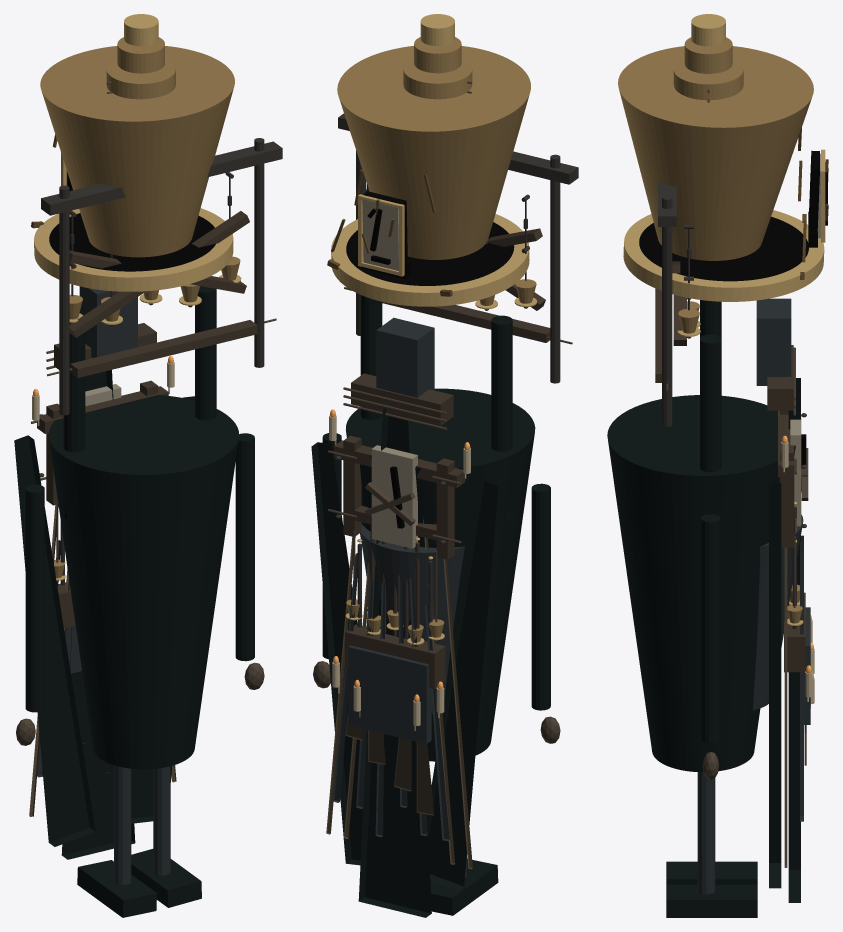
The model's file is bell_saint_v6d_detail_pass.glb.
The picture shows the model from 3 angles, left to right: view 1: azimuth 30°, elevation 25°; view 2: azimuth 150°, elevation 25°; view 3: azimuth 270°, elevation 25°; orthographic projection.
Visible parts, largest first — view 1: BS6D_RobeMainCentered, BS6D_BellHead_Main, BS6D_LeftOuterRobeFall, BS6D_BellHeadOuterLip, BS6D_LeftForeSleeve, BS6D_RightForeSleeve, BS6D_FrontCentralBladePanel, BS6D_BackLowCrossbarCentered, BS6D_BellHeadInnerLipShadow, BS6D_BackTopCrossbarCentered, BS6D_LeftFoot, BS6D_RightUpperSleeve (+18 smaller); view 2: BS6D_BellHead_Main, BS6D_RobeMainCentered, BS6D_LeftOuterRobeFall, BS6D_FrontCentralBladePanel, BS6D_RightOuterRobeFall, BS6D_LowerAltarFrontPlate, BS6D_BellHeadOuterLip, BS6D_RobeInnerShadowCentered, BS6D_LeftForeSleeve, BS6D_CentralNeckBlock, BS6D_BellHeadInnerLipShadow, BS6D_CenterBoundPlate (+28 smaller); view 3: BS6D_RobeMainCentered, BS6D_BellHead_Main, BS6D_BellHeadOuterLip, BS6D_RightOuterRobeFall, BS6D_RightForeSleeve, BS6D_BellHeadInnerLipShadow, BS6D_FrontCentralBladePanel, BS6D_RightUpperSleeve, BS6D_RightFoot, BS6D_CentralNeckBlock, BS6D_RobeInnerShadowCentered, BS6D_BackRightPost (+18 smaller).
Boxes of the visible parts, <box> form: BS6D_RobeMainCentered: <box>48,395,239,769</box>; BS6D_BellHead_Main: <box>40,46,234,257</box>; BS6D_LeftOuterRobeFall: <box>14,435,95,846</box>; BS6D_BellHeadOuterLip: <box>34,208,233,291</box>; BS6D_LeftForeSleeve: <box>25,484,44,712</box>; BS6D_RightForeSleeve: <box>235,433,254,661</box>; BS6D_FrontCentralBladePanel: <box>61,370,135,859</box>; BS6D_BackLowCrossbarCentered: <box>70,320,257,377</box>; BS6D_BellHeadInnerLipShadow: <box>49,213,215,271</box>; BS6D_BackTopCrossbarCentered: <box>41,141,282,215</box>; BS6D_LeftFoot: <box>77,860,156,917</box>; BS6D_RightUpperSleeve: <box>195,286,216,420</box>; BS6D_BellHead_Main: <box>337,46,530,259</box>; BS6D_RobeMainCentered: <box>346,388,535,761</box>; BS6D_LeftOuterRobeFall: <box>427,481,498,890</box>; BS6D_FrontCentralBladePanel: <box>358,407,431,917</box>; BS6D_RightOuterRobeFall: <box>311,442,366,865</box>; BS6D_LowerAltarFrontPlate: <box>348,645,431,743</box>; BS6D_BellHeadOuterLip: <box>331,214,529,306</box>; BS6D_RobeInnerShadowCentered: <box>360,524,464,713</box>; BS6D_LeftForeSleeve: <box>531,483,550,710</box>; BS6D_CentralNeckBlock: <box>376,317,434,397</box>; BS6D_BellHeadInnerLipShadow: <box>346,222,514,285</box>; BS6D_CenterBoundPlate: <box>371,445,417,548</box>; BS6D_RobeMainCentered: <box>607,395,795,772</box>; BS6D_BellHead_Main: <box>618,46,813,260</box>; BS6D_BellHeadOuterLip: <box>623,210,824,301</box>; BS6D_RightOuterRobeFall: <box>769,483,781,888</box>; BS6D_RightForeSleeve: <box>701,514,720,743</box>; BS6D_BellHeadInnerLipShadow: <box>639,216,808,281</box>; BS6D_FrontCentralBladePanel: <box>788,378,800,902</box>; BS6D_RightUpperSleeve: <box>700,334,721,472</box>; BS6D_RightFoot: <box>666,884,757,917</box>; BS6D_CentralNeckBlock: <box>756,298,791,385</box>; BS6D_RobeInnerShadowCentered: <box>753,514,803,710</box>; BS6D_BackRightPost: <box>662,195,672,426</box>.
Bounding box in the file's own units: 1.32 × 4.45 × 1.02.
